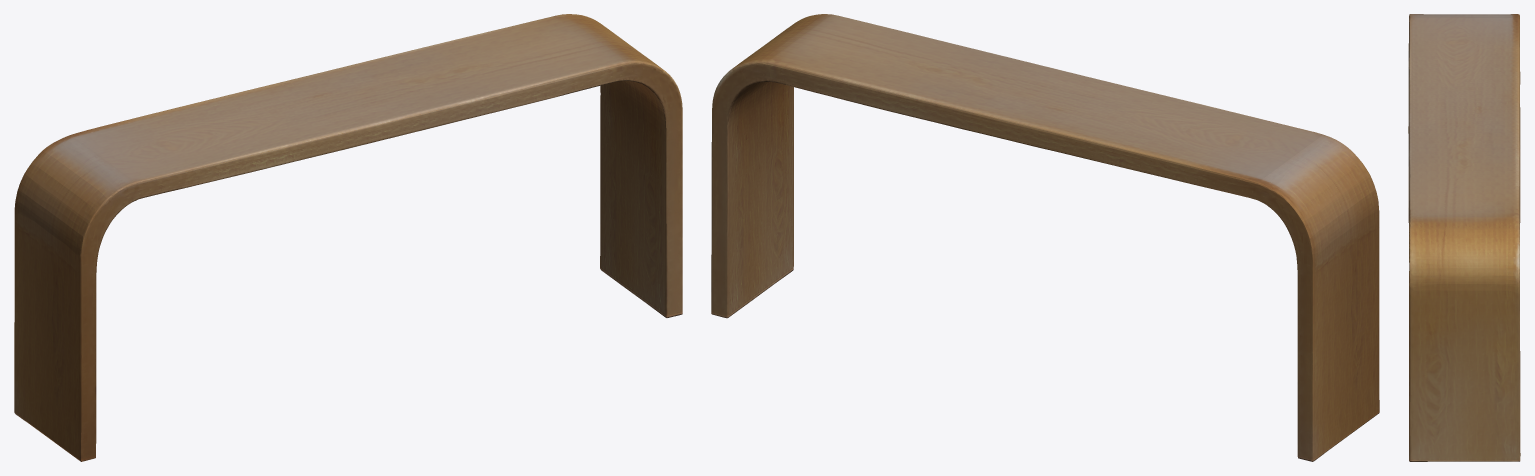
File: CREDENZA ADANA.glb
The picture shows the model from 3 angles, left to right: view 1: azimuth 30°, elevation 25°; view 2: azimuth 150°, elevation 25°; view 3: azimuth 270°, elevation 25°; orthographic projection. The views are drawn at different scales.
Parts seen in each view (by area): view 1: world; view 2: world; view 3: world.
Part boxes in pixels (x1,y1,x2,y2): world: (14, 14, 682, 461); world: (711, 14, 1379, 461); world: (1408, 14, 1520, 461).
Size of the model in its own units: 1 by 0.4243 by 0.193.
Materials: 1 (1 with a texture image).
